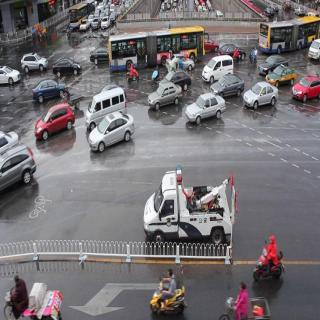BigCar: (101, 24, 210, 70), (255, 18, 320, 49)
Car: (146, 160, 240, 259), (0, 142, 36, 192), (30, 105, 75, 138), (184, 94, 226, 129), (146, 82, 181, 124), (89, 120, 128, 152), (49, 53, 86, 85), (31, 76, 68, 107), (81, 100, 132, 120), (200, 51, 236, 78), (246, 78, 275, 110), (268, 59, 295, 92), (263, 48, 288, 78), (18, 52, 51, 74), (298, 76, 320, 108), (2, 62, 20, 91)
